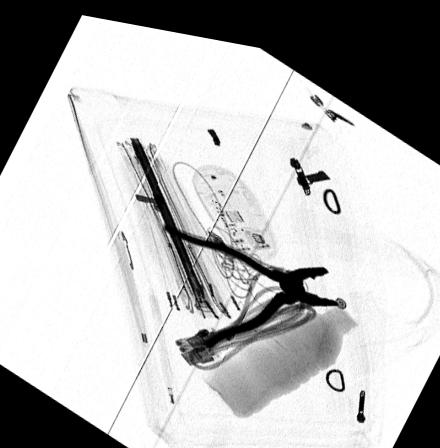Pliers: (159, 215, 339, 342)
